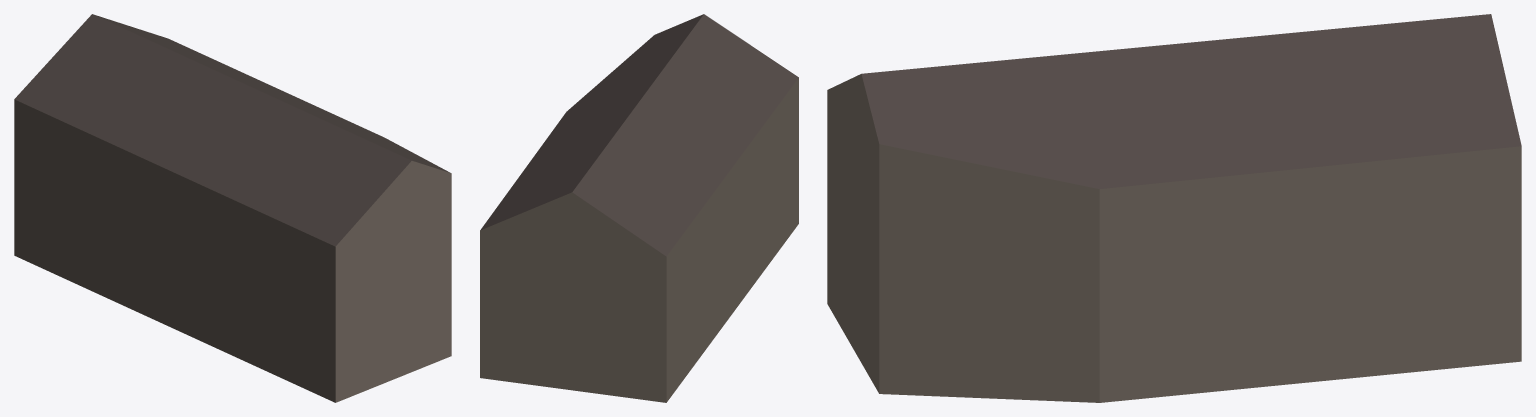
3 renders of one model, left to right at view 1: azimuth 30°, elevation 25°; view 2: azimuth 150°, elevation 25°; view 3: azimuth 270°, elevation 25°, orthographic. The views are drawn at different scales.
Parts seen in each view (by area): view 1: HP-w1200835869; view 2: HP-w1200835869; view 3: HP-w1200835869.
Boxes of the visible parts, <box> form: HP-w1200835869: <box>14,14,451,402</box>; HP-w1200835869: <box>480,14,798,402</box>; HP-w1200835869: <box>827,14,1521,402</box>.
Size of the model in its own units: 14.38 by 12.18 by 26.5.
